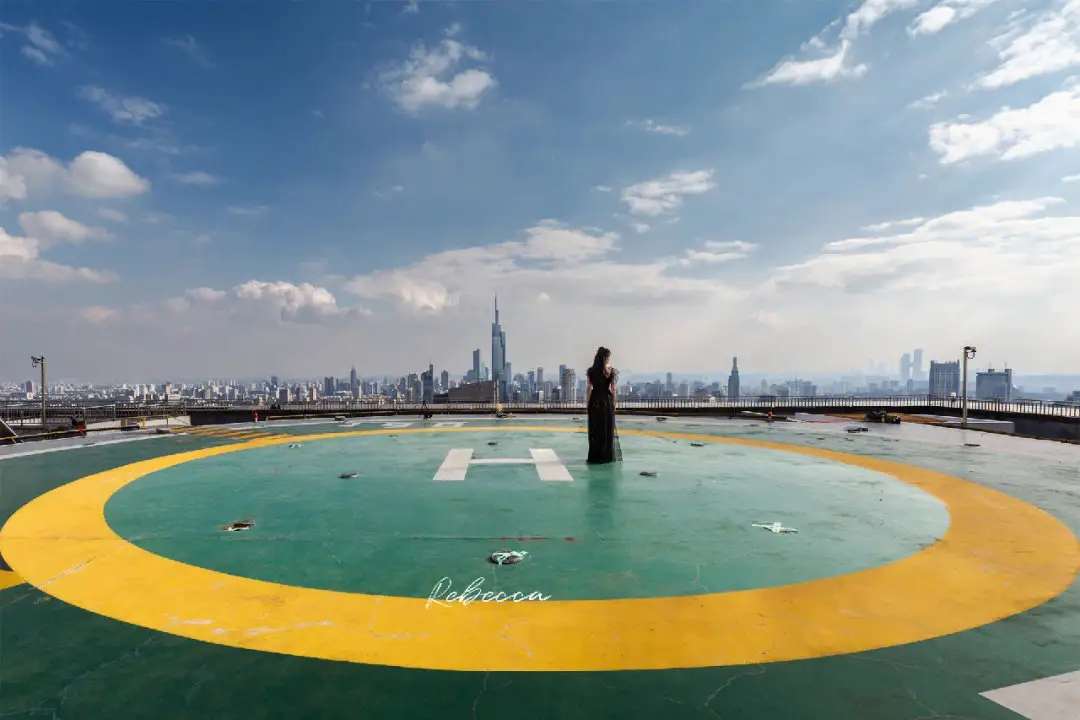Apron: (1, 426, 1076, 671)
